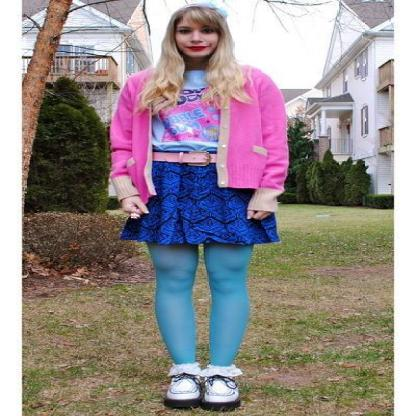jacket: (104, 68, 288, 216)
pants: (150, 241, 250, 370)
shirt: (149, 69, 230, 153)
shoe: (162, 379, 238, 411)
skirt: (137, 160, 279, 391)
